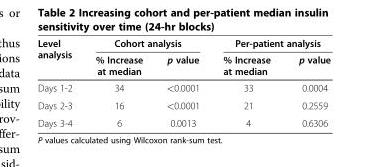table: (36, 37, 329, 128)
table column: (210, 37, 283, 128), (83, 37, 153, 128), (153, 37, 210, 128), (36, 37, 83, 128), (283, 37, 329, 128)
table column header: (36, 37, 329, 79)
table row: (36, 51, 329, 79), (36, 79, 329, 96), (36, 96, 329, 113), (36, 113, 329, 128), (36, 37, 329, 51)
table spanning cell: (36, 37, 83, 79), (83, 37, 210, 51), (210, 37, 329, 51)
